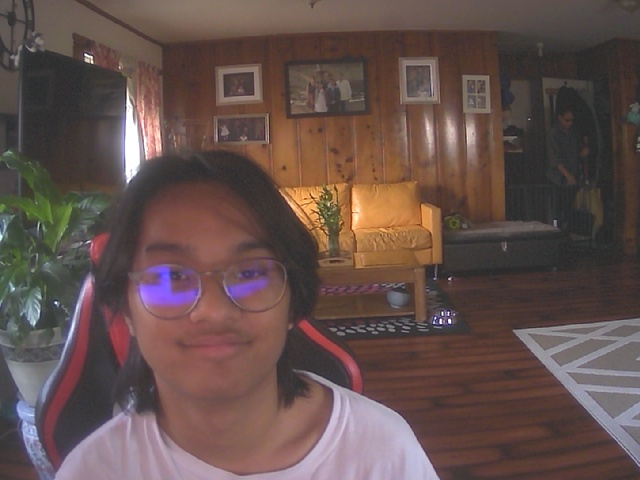happy: (112, 157, 305, 404)
